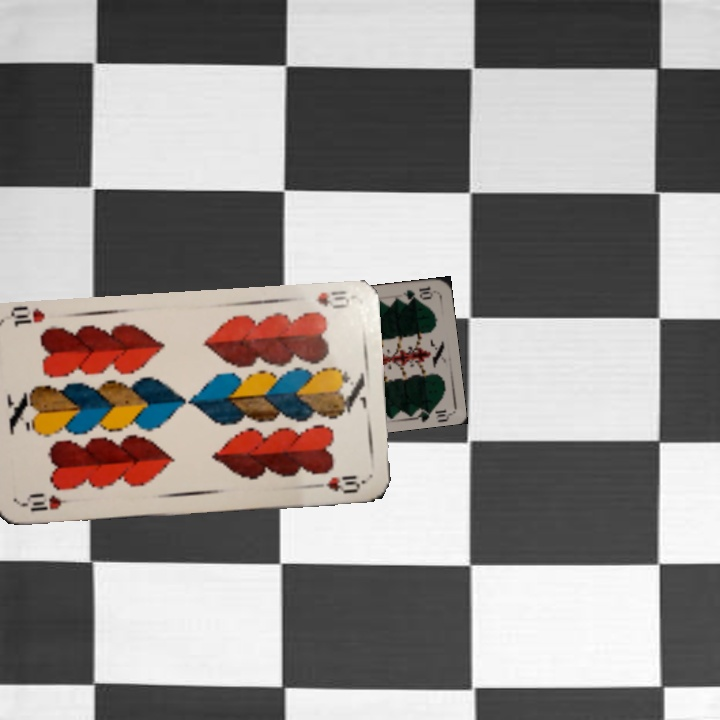G10: (399, 282, 436, 304)
H10: (18, 491, 78, 514), (311, 286, 353, 311)
